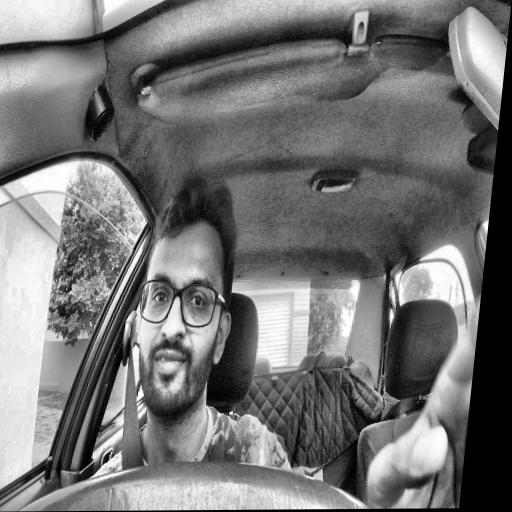awake: (125, 176, 247, 431)
